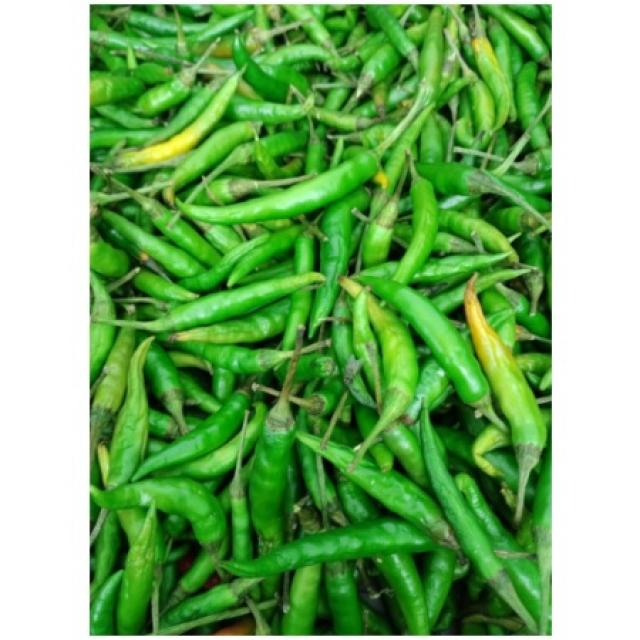green chilli: (421, 410, 539, 634), (465, 277, 549, 523), (299, 434, 458, 550), (363, 279, 491, 410), (178, 149, 379, 224), (115, 70, 242, 167), (129, 272, 326, 334), (91, 479, 228, 561), (309, 188, 371, 338), (249, 401, 296, 557)
